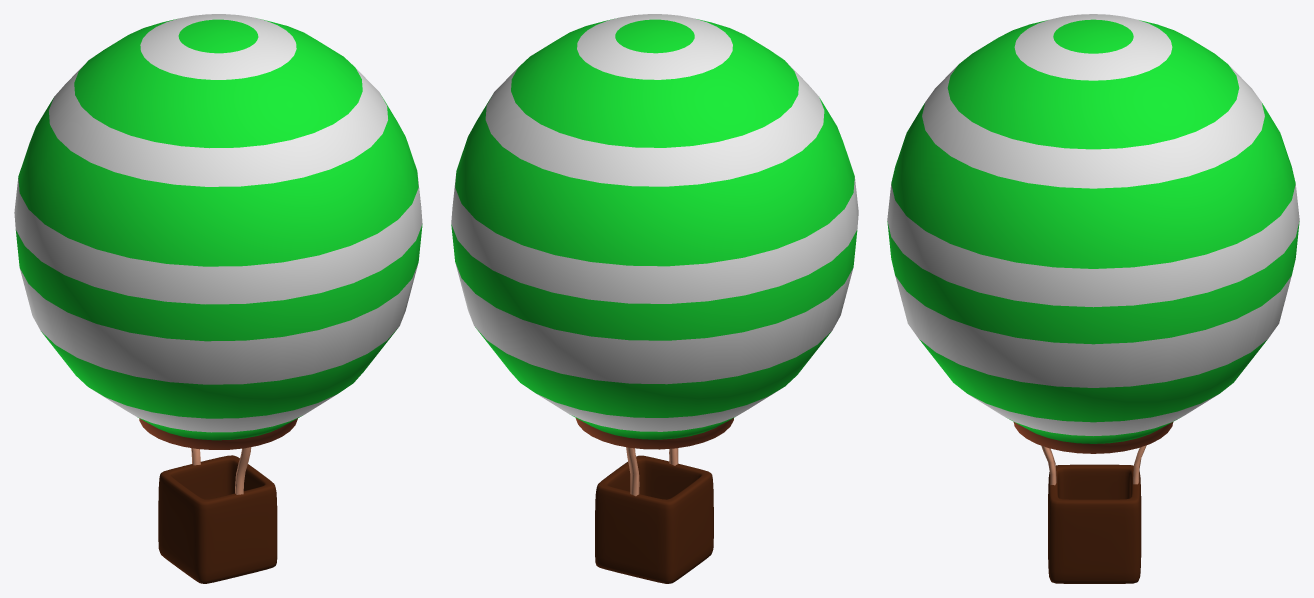
The model's file is Balloon.fbx.
3 views of the same model, side by side, from view 1: azimuth 30°, elevation 25°; view 2: azimuth 150°, elevation 25°; view 3: azimuth 270°, elevation 25° (orthographic).
Parts seen in each view (by area): view 1: Cube; view 2: Cube; view 3: Cube.
Part boxes in pixels (bbox=[...]): Cube: bbox=[14, 14, 422, 583]; Cube: bbox=[451, 14, 858, 583]; Cube: bbox=[887, 14, 1299, 583].
Size of the model in its own units: 878 by 1257 by 878.
